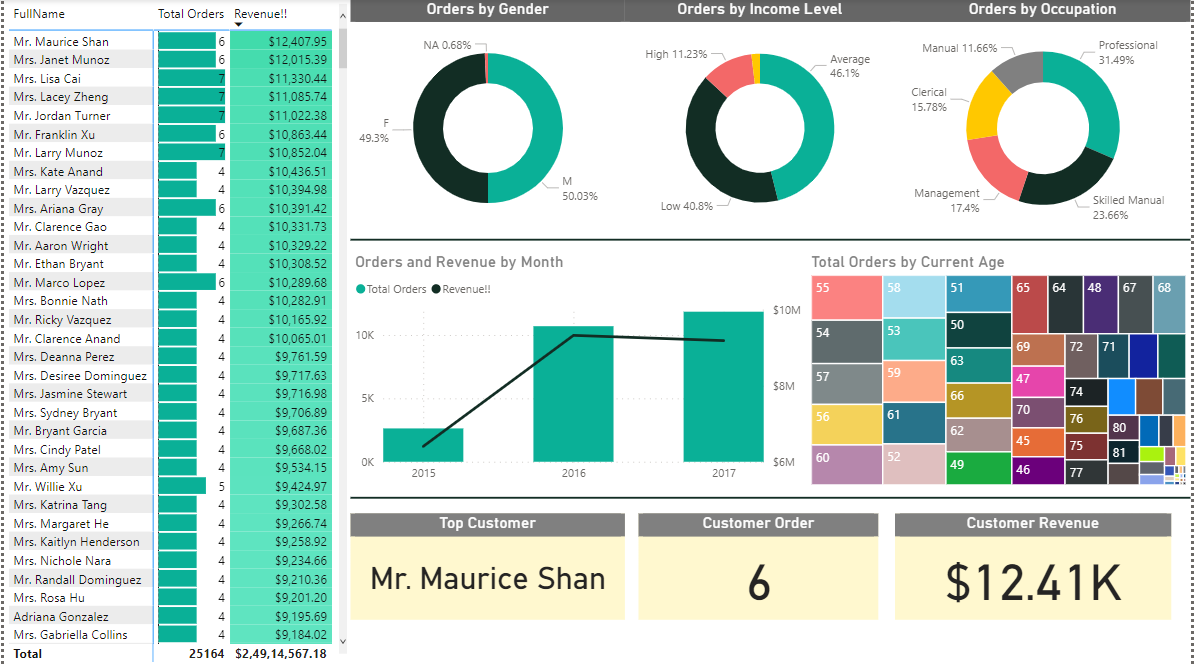

The dashboard page shown, as its layout file describes it:
{"tool":"powerbi","page":{"name":"Customer Detail","canvas":[1280,720],"ordinal":1},"visuals":[{"type":"pivotTable","fields":{"Rows":["AW_Customer_lookup.FullName"],"Values":["AW_Sales.Total Orders","AW_Sales.Revenue!!"]},"box":[0,0,375,720],"z":0},{"type":"donutChart","title":"Orders by Gender","fields":{"Category":["AW_Customer_lookup.Gender"],"Y":["AW_Sales.Total Orders"]},"box":[374.2,0,296.1,258.7],"z":1000},{"type":"donutChart","title":"Orders by Income Level","fields":{"Category":["AW_Customer_lookup.IncomeLevel"],"Y":["AW_Sales.Total Orders"]},"box":[670.4,0,291.3,258.7],"z":2000},{"type":"donutChart","title":"Orders by Occupation","fields":{"Category":["AW_Customer_lookup.Occupation"],"Y":["AW_Sales.Total Orders"]},"box":[961.6,0,318.9,258.7],"z":3000},{"type":"shape","box":[373.8,223.3,906.1,72.8],"z":4000},{"type":"lineClusteredColumnComboChart","title":"Orders and Revenue by Month","fields":{"Category":["AW_calender_lookup.Date.Variation.Date Hierarchy.Year","AW_calender_lookup.Date.Variation.Date Hierarchy.Month"],"Y":["AW_Sales.Total Orders"],"Y2":["AW_Sales.Revenue!!"]},"box":[373.8,273.4,491.9,255.6],"z":5000},{"type":"treemap","title":"Total Orders by Current Age","fields":{"Values":["AW_Sales.Total Orders"],"Details":["AW_Customer_lookup.Current age"]},"box":[865.6,273.4,414.2,255.6],"z":6000},{"type":"card","title":"Top Customer","fields":{"Values":["AW_Customer_lookup.FullName"]},"box":[373.8,555,296.1,114.9],"z":7000},{"type":"card","title":"Customer Order","fields":{"Values":["AW_Sales.Total Orders"]},"box":[684.4,555,258.9,114.9],"z":8000},{"type":"card","title":"Customer Revenue","fields":{"Values":["AW_Sales.Revenue!!"]},"box":[961.1,555,297.7,114.9],"z":9000},{"type":"shape","box":[373.8,521,906.1,34],"z":10000}]}

Visuals, with their boxes in screenshot pixels (x1, y1, x2, y2), scaled from the page's 1280x720 canvas onto the 1194x665 screenshot:
pivotTable - AW_Customer_lookup.FullName x AW_Sales.Total Orders: {"left": 0, "top": 0, "right": 350, "bottom": 664}
"Orders by Gender" donutChart: {"left": 349, "top": 0, "right": 625, "bottom": 239}
"Orders by Income Level" donutChart: {"left": 625, "top": 0, "right": 897, "bottom": 239}
"Orders by Occupation" donutChart: {"left": 897, "top": 0, "right": 1193, "bottom": 239}
shape: {"left": 349, "top": 206, "right": 1193, "bottom": 273}
"Orders and Revenue by Month" lineClusteredColumnComboChart: {"left": 349, "top": 253, "right": 808, "bottom": 489}
"Total Orders by Current Age" treemap: {"left": 807, "top": 253, "right": 1193, "bottom": 489}
"Top Customer" card: {"left": 349, "top": 513, "right": 625, "bottom": 619}
"Customer Order" card: {"left": 638, "top": 513, "right": 880, "bottom": 619}
"Customer Revenue" card: {"left": 897, "top": 513, "right": 1174, "bottom": 619}
shape: {"left": 349, "top": 481, "right": 1193, "bottom": 513}
